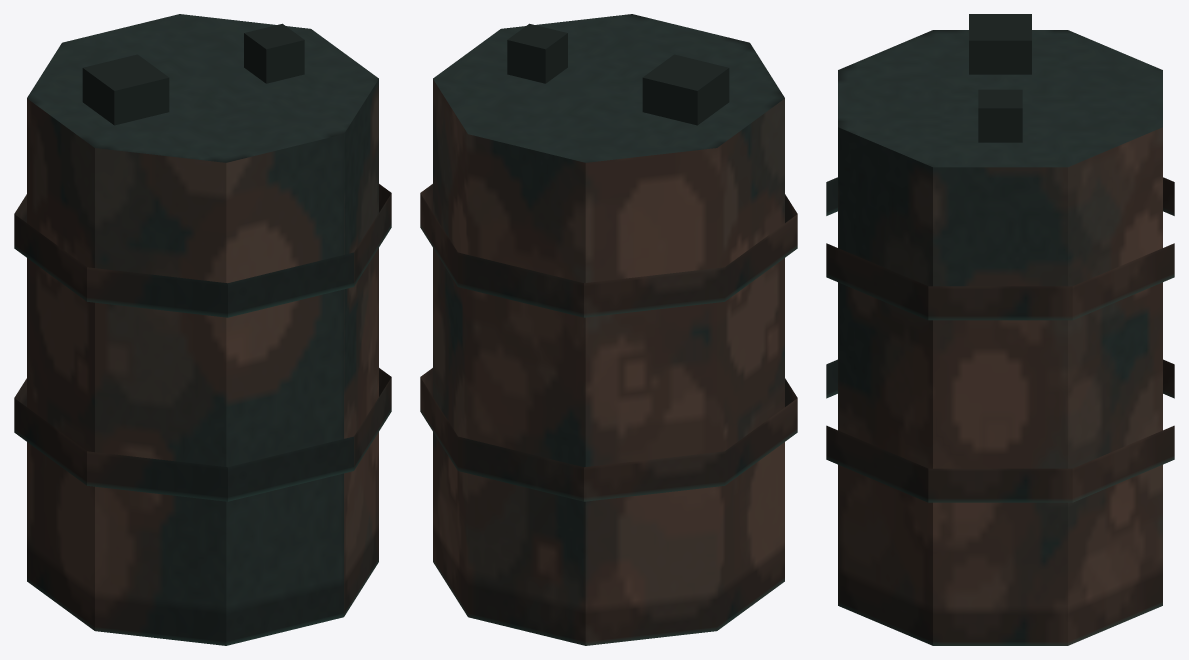
The model's file is SM_MachProp_Drum_Barrel_60x60x90.fbx.
3 renders of one model, left to right at view 1: azimuth 30°, elevation 25°; view 2: azimuth 150°, elevation 25°; view 3: azimuth 270°, elevation 25°, orthographic.
Visible parts, largest first — view 1: SM_MachProp_Drum_Barrel_60x60x90.001; view 2: SM_MachProp_Drum_Barrel_60x60x90.001; view 3: SM_MachProp_Drum_Barrel_60x60x90.001.
Boxes of the visible parts, left/top/right/bottom form: SM_MachProp_Drum_Barrel_60x60x90.001: left=14, top=14, right=391, bottom=645; SM_MachProp_Drum_Barrel_60x60x90.001: left=420, top=14, right=797, bottom=645; SM_MachProp_Drum_Barrel_60x60x90.001: left=826, top=14, right=1174, bottom=645.
Size of the model in its own units: 0.5543 by 0.9 by 0.5543.
